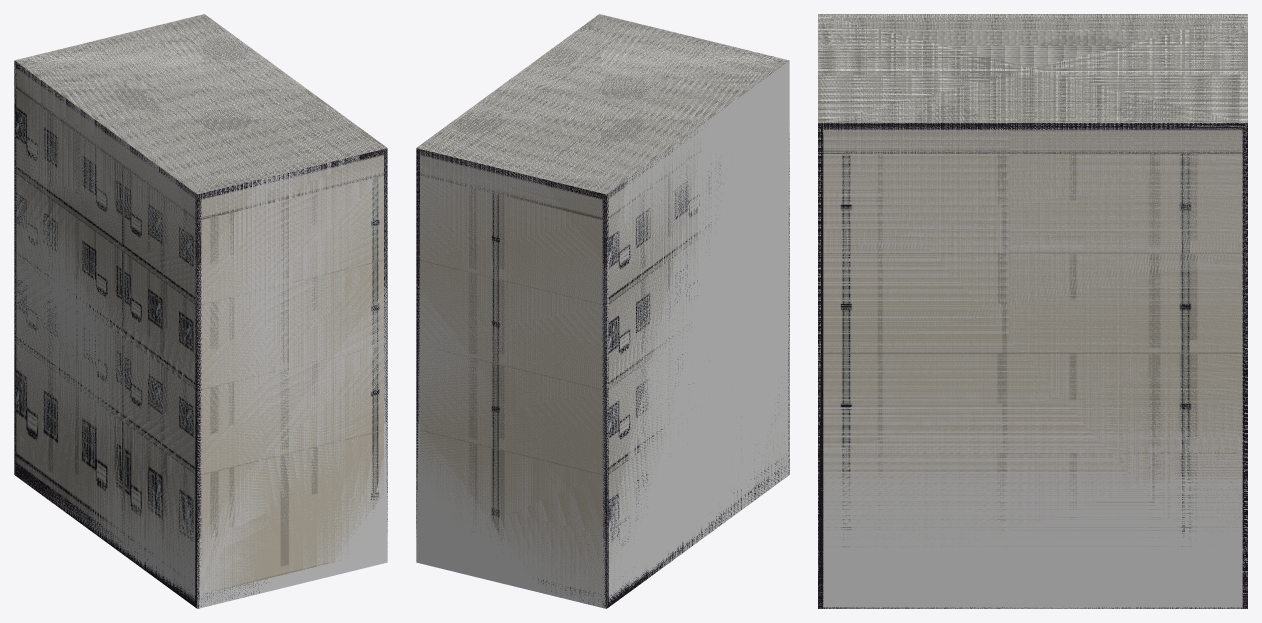
3 renders of one model, left to right at view 1: azimuth 30°, elevation 25°; view 2: azimuth 150°, elevation 25°; view 3: azimuth 270°, elevation 25°, orthographic. The views are drawn at different scales.
Visible parts, largest first — view 1: 19D-E20, COL_19D-E20_0; view 2: COL_19D-E20_0, 19D-E20; view 3: 19D-E20, COL_19D-E20_0.
Boxes of the visible parts, x1=… form: 19D-E20: x1=14, y1=14, x2=387, y2=608; COL_19D-E20_0: x1=14, y1=14, x2=387, y2=608; COL_19D-E20_0: x1=416, y1=14, x2=789, y2=608; 19D-E20: x1=416, y1=14, x2=789, y2=608; 19D-E20: x1=818, y1=14, x2=1247, y2=608; COL_19D-E20_0: x1=818, y1=14, x2=1247, y2=608.
Bounding box in the file's own units: 7.5 × 15.6 × 12.5.
1 material, 1 textured.
